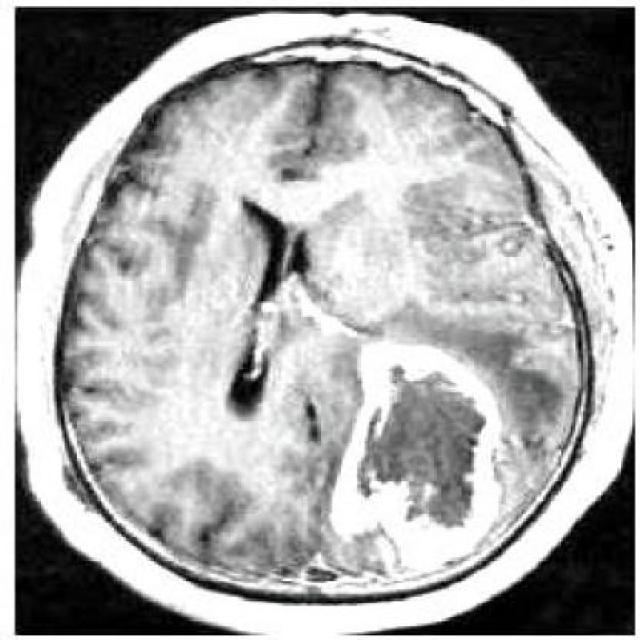Tumor: (342, 342, 498, 558)
